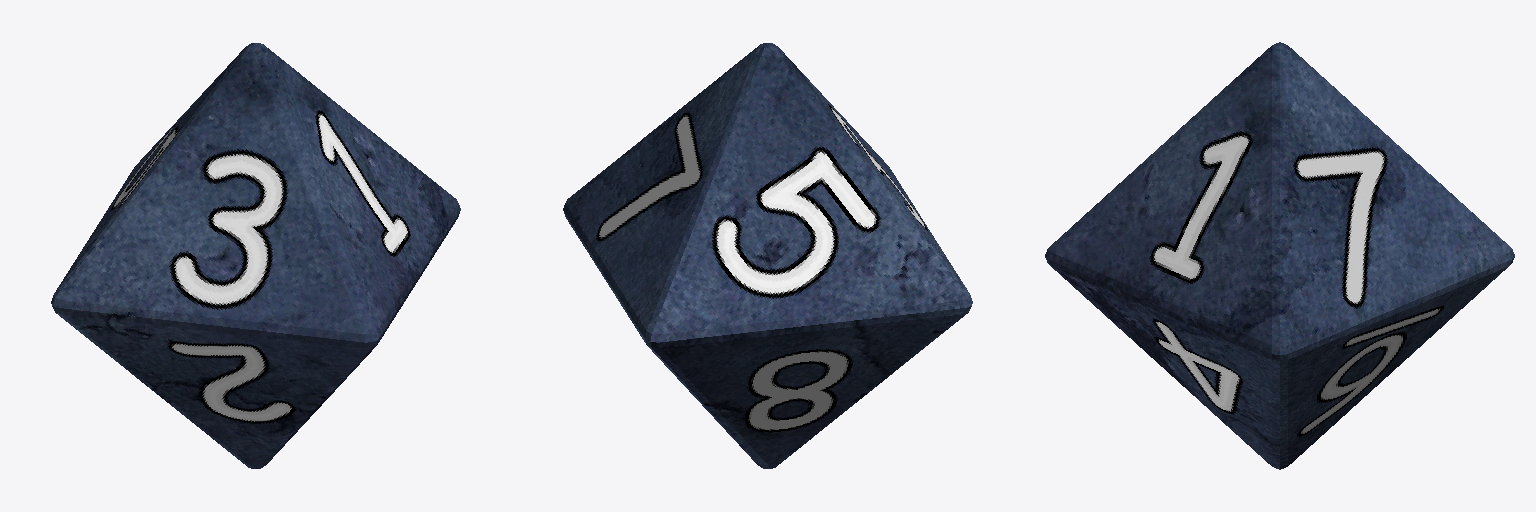
3 renders of one model, left to right at view 1: azimuth 30°, elevation 25°; view 2: azimuth 150°, elevation 25°; view 3: azimuth 270°, elevation 25°, orthographic.
Parts seen in each view (by area): view 1: d8_smooth; view 2: d8_smooth; view 3: d8_smooth.
Part boxes in pixels (x1,y1,x2,y2): d8_smooth: (51, 43, 460, 468); d8_smooth: (563, 43, 972, 468); d8_smooth: (1045, 42, 1514, 469).
Bounding box in the file's own units: 7.26 × 7.26 × 7.26.
Materials: 1 (1 with a texture image).